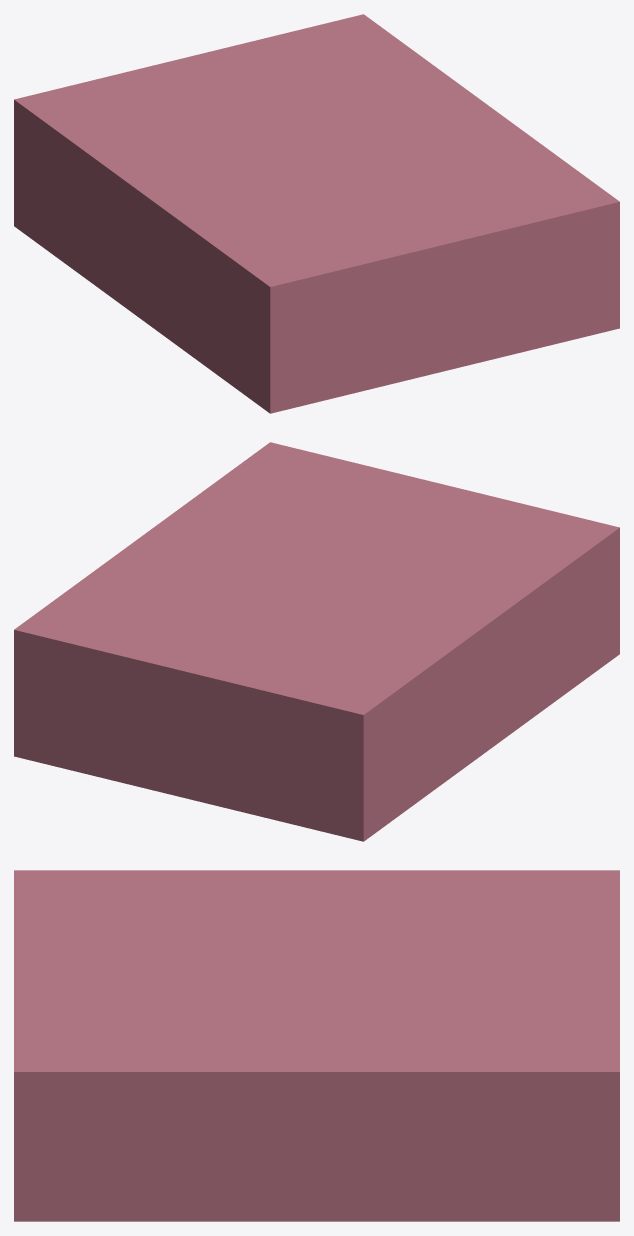
Rendered from 199501_pred.glb.
3 views of the same model, one above another, from view 1: azimuth 30°, elevation 25°; view 2: azimuth 150°, elevation 25°; view 3: azimuth 270°, elevation 25° (orthographic). The views are drawn at different scales.
Visible parts, largest first — view 1: world; view 2: world; view 3: world.
Boxes of the visible parts, box(x1,y1,x2,y2) form: world: box(14, 14, 619, 413); world: box(14, 442, 619, 841); world: box(14, 870, 619, 1221).
Bounding box in the file's own units: 2.6 × 0.9 × 3.3.
